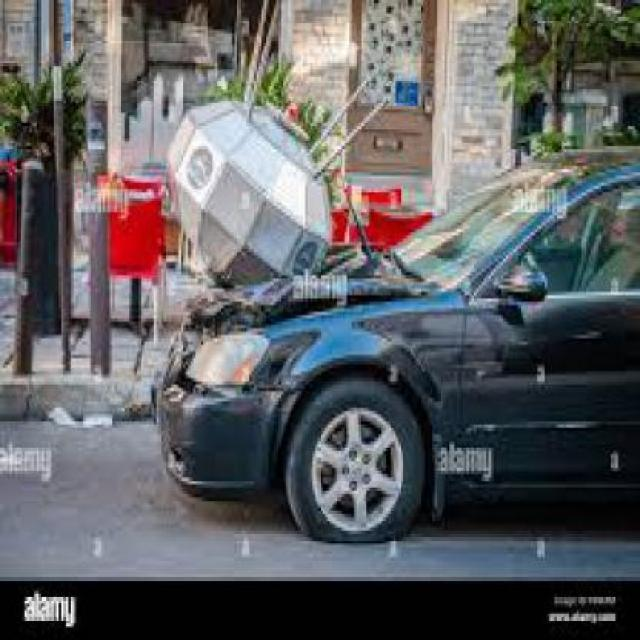damaged-hood: (180, 270, 406, 321)
